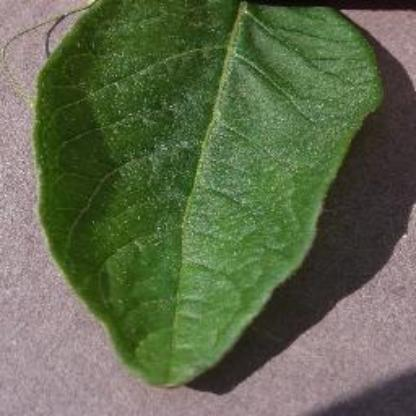Healthy-plant: (32, 0, 384, 386)
